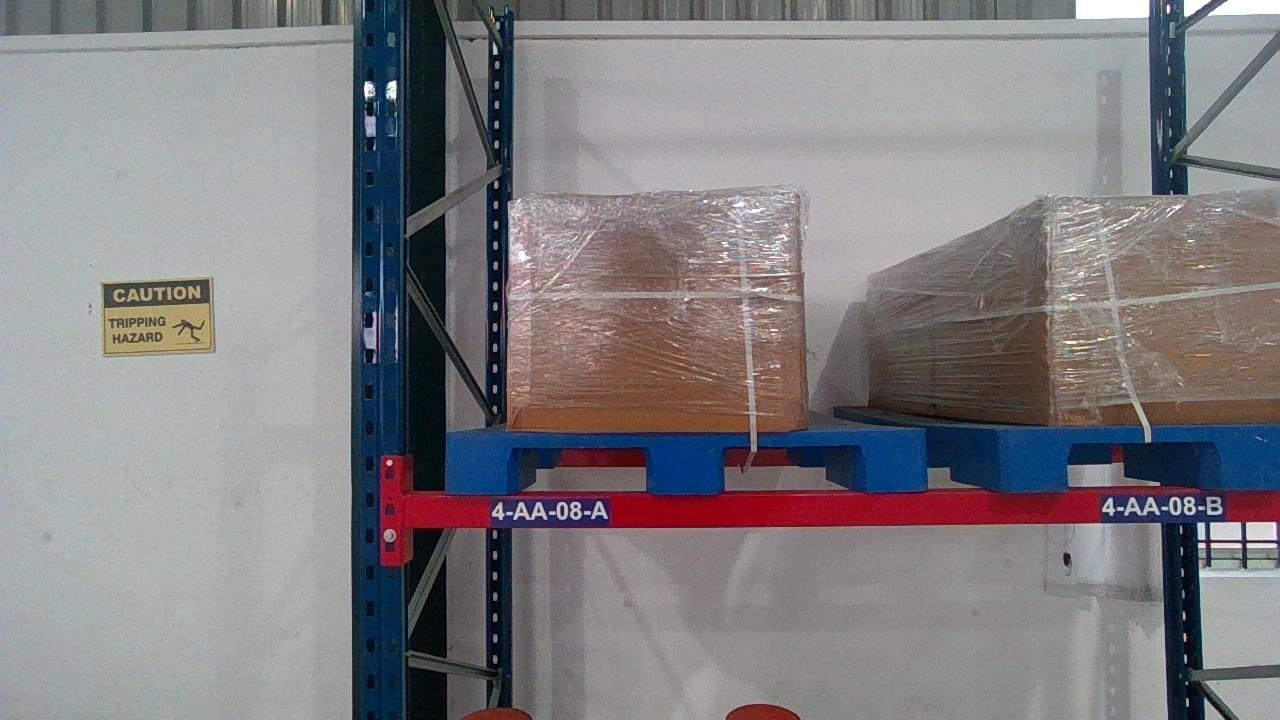h_rack: (407, 490, 1277, 526)
small_pallet: (444, 432, 928, 492), (994, 425, 1274, 492)
